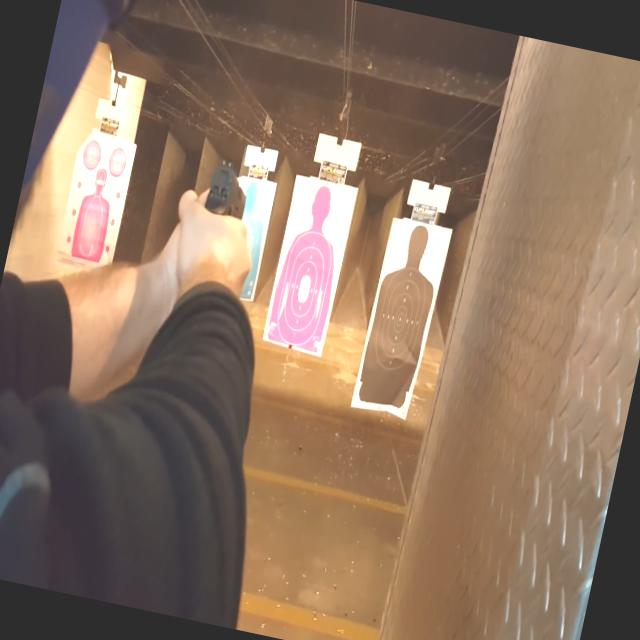handgun: (187, 156, 259, 268)
